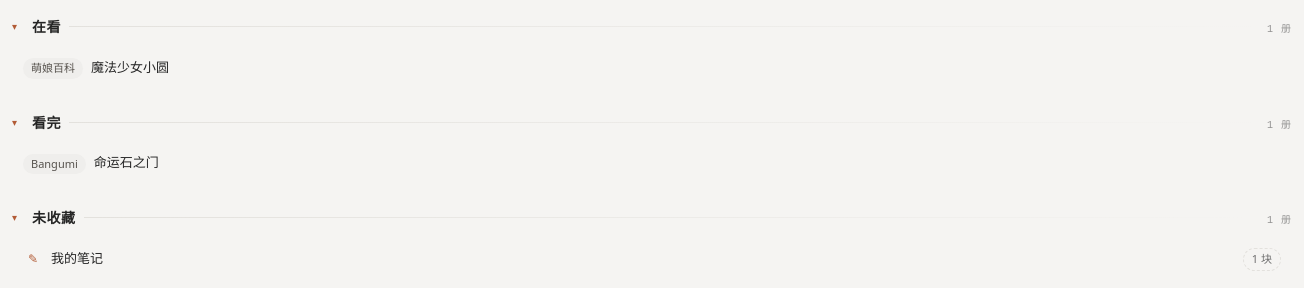
it: 状态分组列表 › 分组标题 + 数量角标 + 折叠展开
The width and height of the screenshot is (1304, 288).
Expected: the text "在看" is shown, [32,16,61,37]
Expected: the text "未收藏" is shown, [32,207,76,228]
// 折叠"看完"组 → 该组条目隐藏
Click the text "看完": (47, 122) [32,112,61,132]
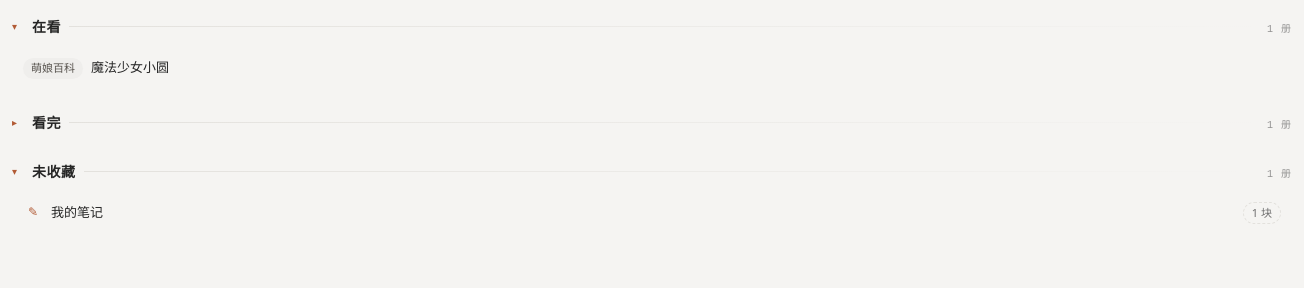
Expected: the text "魔法少女小圆" is shown, [91,58,169,76]
Expected: the button "命运石之门" is gone
Click the text "看完": (47, 122) [32,112,61,132]
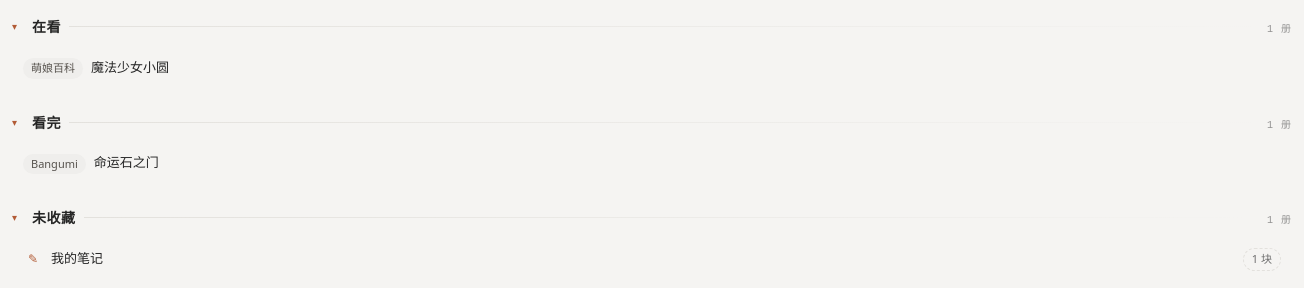
Expected: the text "命运石之门" is shown, [94,153,159,171]
